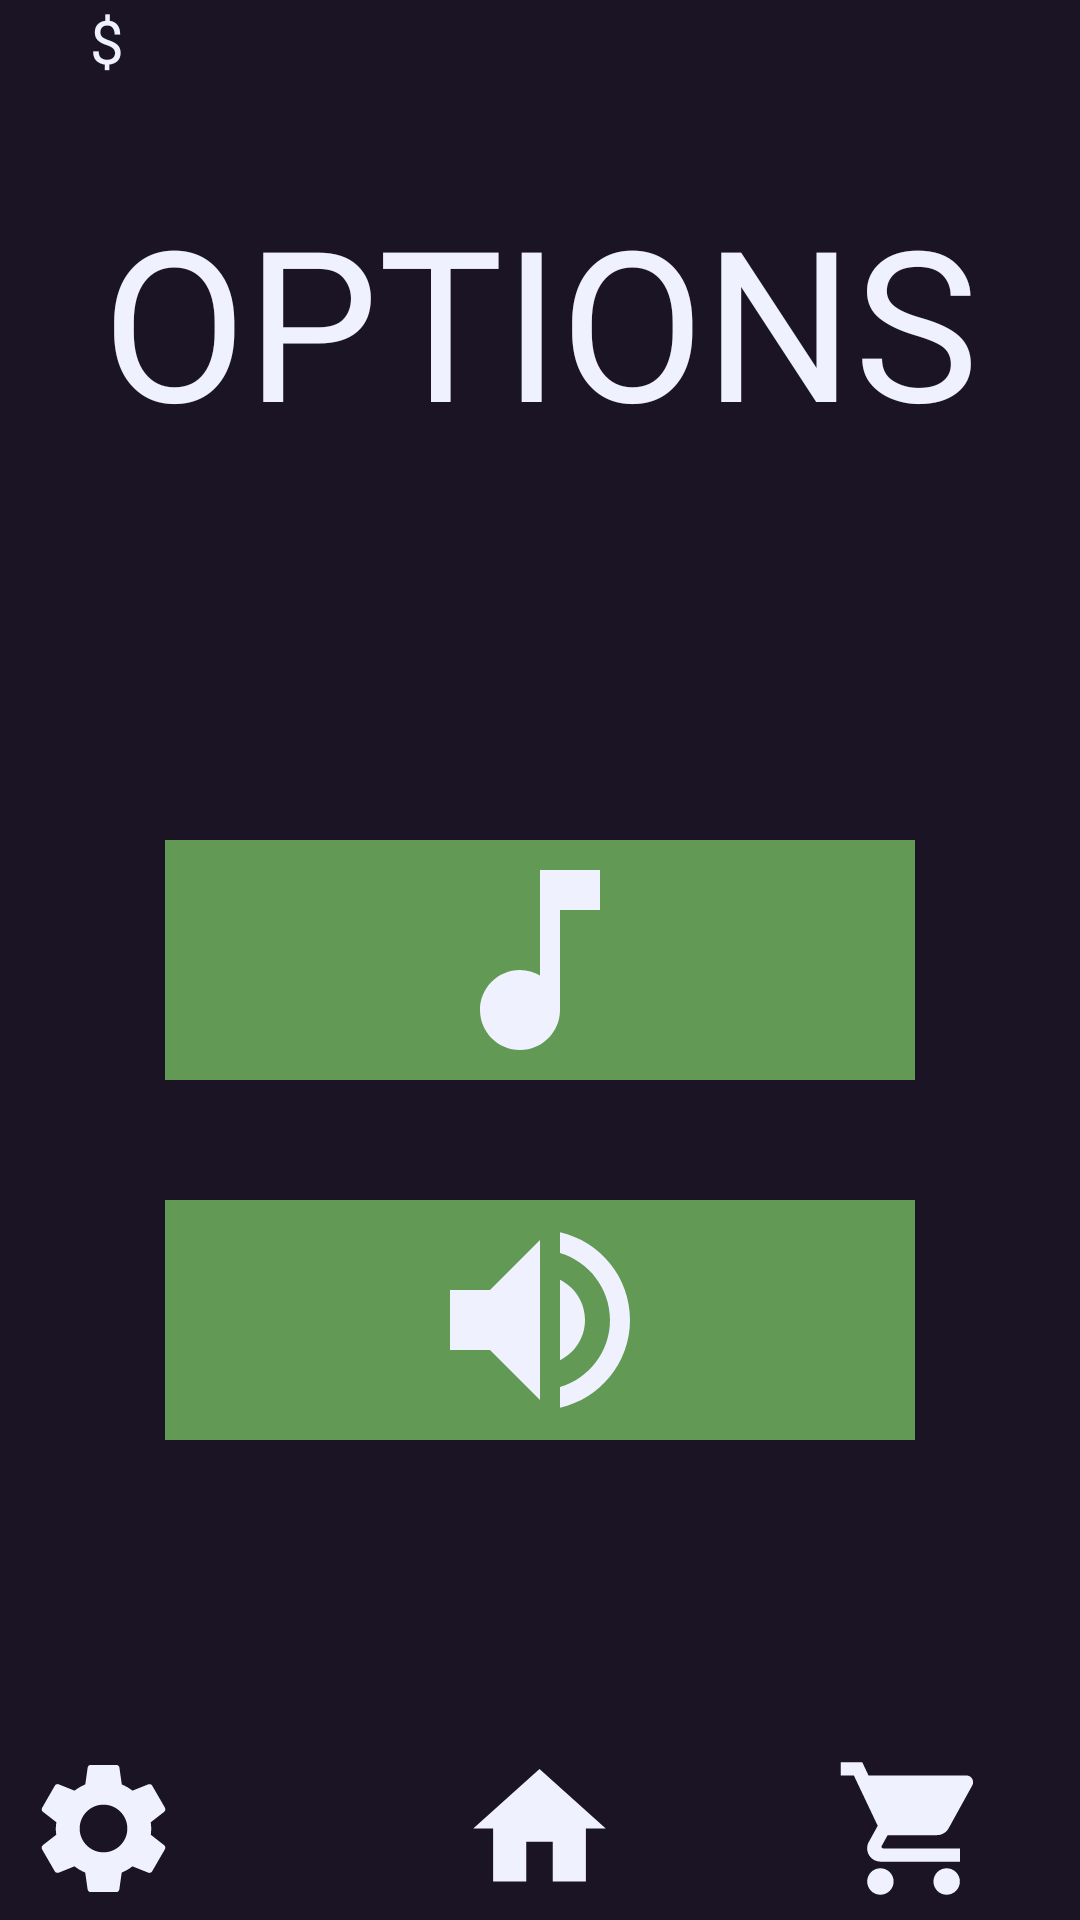

Icons on this 1080 x 1920 Android screen, each with the point to tap as (x,y):
home: (539,1825)
settings: (103,1828)
shop: (906,1828)
